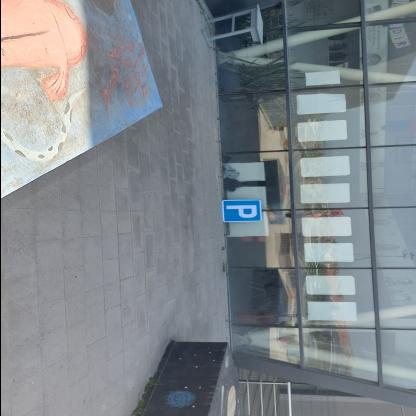Parking-Sign: (222, 200, 262, 224)
